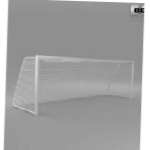goals: (12, 53, 136, 116)
